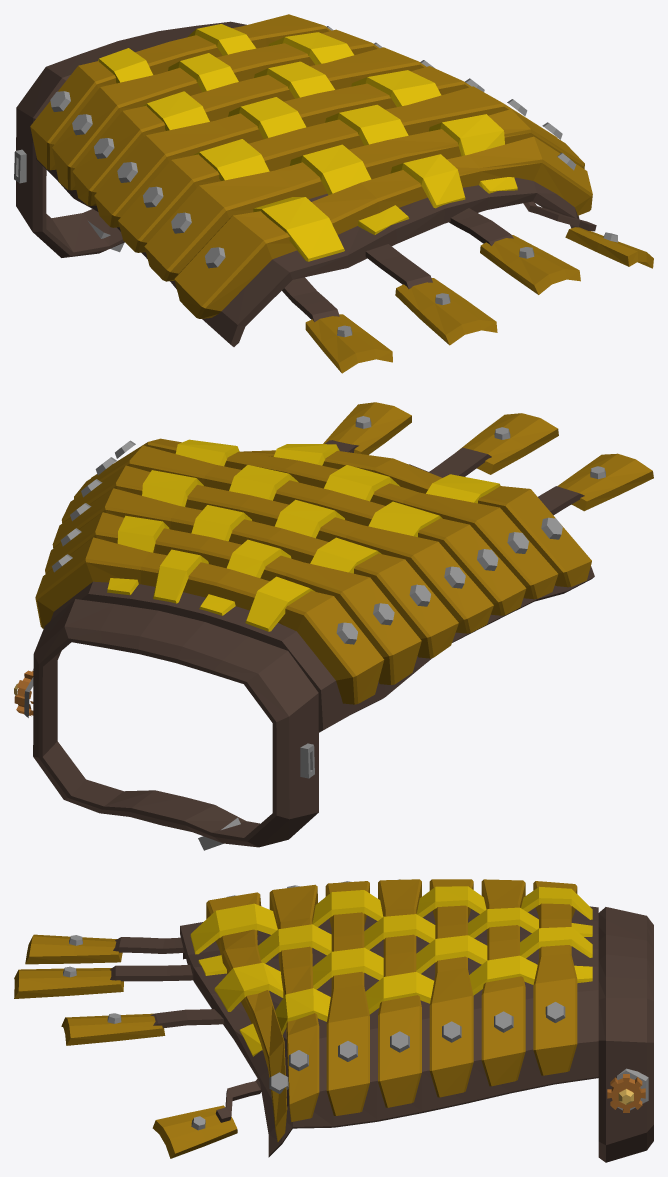
File: gauntlet-wrist-plate-0d8c7f.glb
3 views of the same model, one above another, from view 1: azimuth 30°, elevation 25°; view 2: azimuth 150°, elevation 25°; view 3: azimuth 270°, elevation 25° (orthographic). The views are drawn at different scales.
Parts seen in each view (by area): view 1: wrist, middle-finger-phalanx-proximal, ring-finger-phalanx-proximal, index-finger-phalanx-proximal, pinky-finger-phalanx-proximal, soft:middle-finger, soft:index-finger, soft:ring-finger, soft:pinky-finger; view 2: wrist, middle-finger-phalanx-proximal, index-finger-phalanx-proximal, ring-finger-phalanx-proximal, soft:middle-finger, soft:index-finger; view 3: wrist, middle-finger-phalanx-proximal, pinky-finger-phalanx-proximal, ring-finger-phalanx-proximal, index-finger-phalanx-proximal, soft:middle-finger, soft:index-finger, soft:ring-finger, soft:pinky-finger.
Part boxes in pixels (left/top/right/bottom): wrist: left=14, top=14, right=592, bottom=346; middle-finger-phalanx-proximal: left=395, top=278, right=497, bottom=345; ring-finger-phalanx-proximal: left=480, top=235, right=580, bottom=294; index-finger-phalanx-proximal: left=305, top=314, right=392, bottom=373; pinky-finger-phalanx-proximal: left=565, top=227, right=653, bottom=268; soft:middle-finger: left=365, top=244, right=432, bottom=288; soft:index-finger: left=282, top=277, right=339, bottom=322; soft:ring-finger: left=449, top=208, right=513, bottom=245; soft:pinky-finger: left=523, top=201, right=596, bottom=231; wrist: left=14, top=438, right=594, bottom=850; middle-finger-phalanx-proximal: left=457, top=413, right=558, bottom=474; index-finger-phalanx-proximal: left=557, top=453, right=653, bottom=511; ring-finger-phalanx-proximal: left=323, top=402, right=411, bottom=454; soft:middle-finger: left=429, top=447, right=491, bottom=477; soft:index-finger: left=538, top=486, right=584, bottom=515; wrist: left=180, top=879, right=653, bottom=1162; middle-finger-phalanx-proximal: left=14, top=966, right=123, bottom=998; pinky-finger-phalanx-proximal: left=152, top=1105, right=237, bottom=1158; ring-finger-phalanx-proximal: left=61, top=1013, right=165, bottom=1045; index-finger-phalanx-proximal: left=25, top=934, right=122, bottom=964; soft:middle-finger: left=110, top=965, right=192, bottom=981; soft:index-finger: left=113, top=937, right=184, bottom=953; soft:ring-finger: left=150, top=1009, right=224, bottom=1028; soft:pinky-finger: left=215, top=1078, right=261, bottom=1122.
Size of the model in its own units: 0.1038 by 0.0519 by 0.1449.
